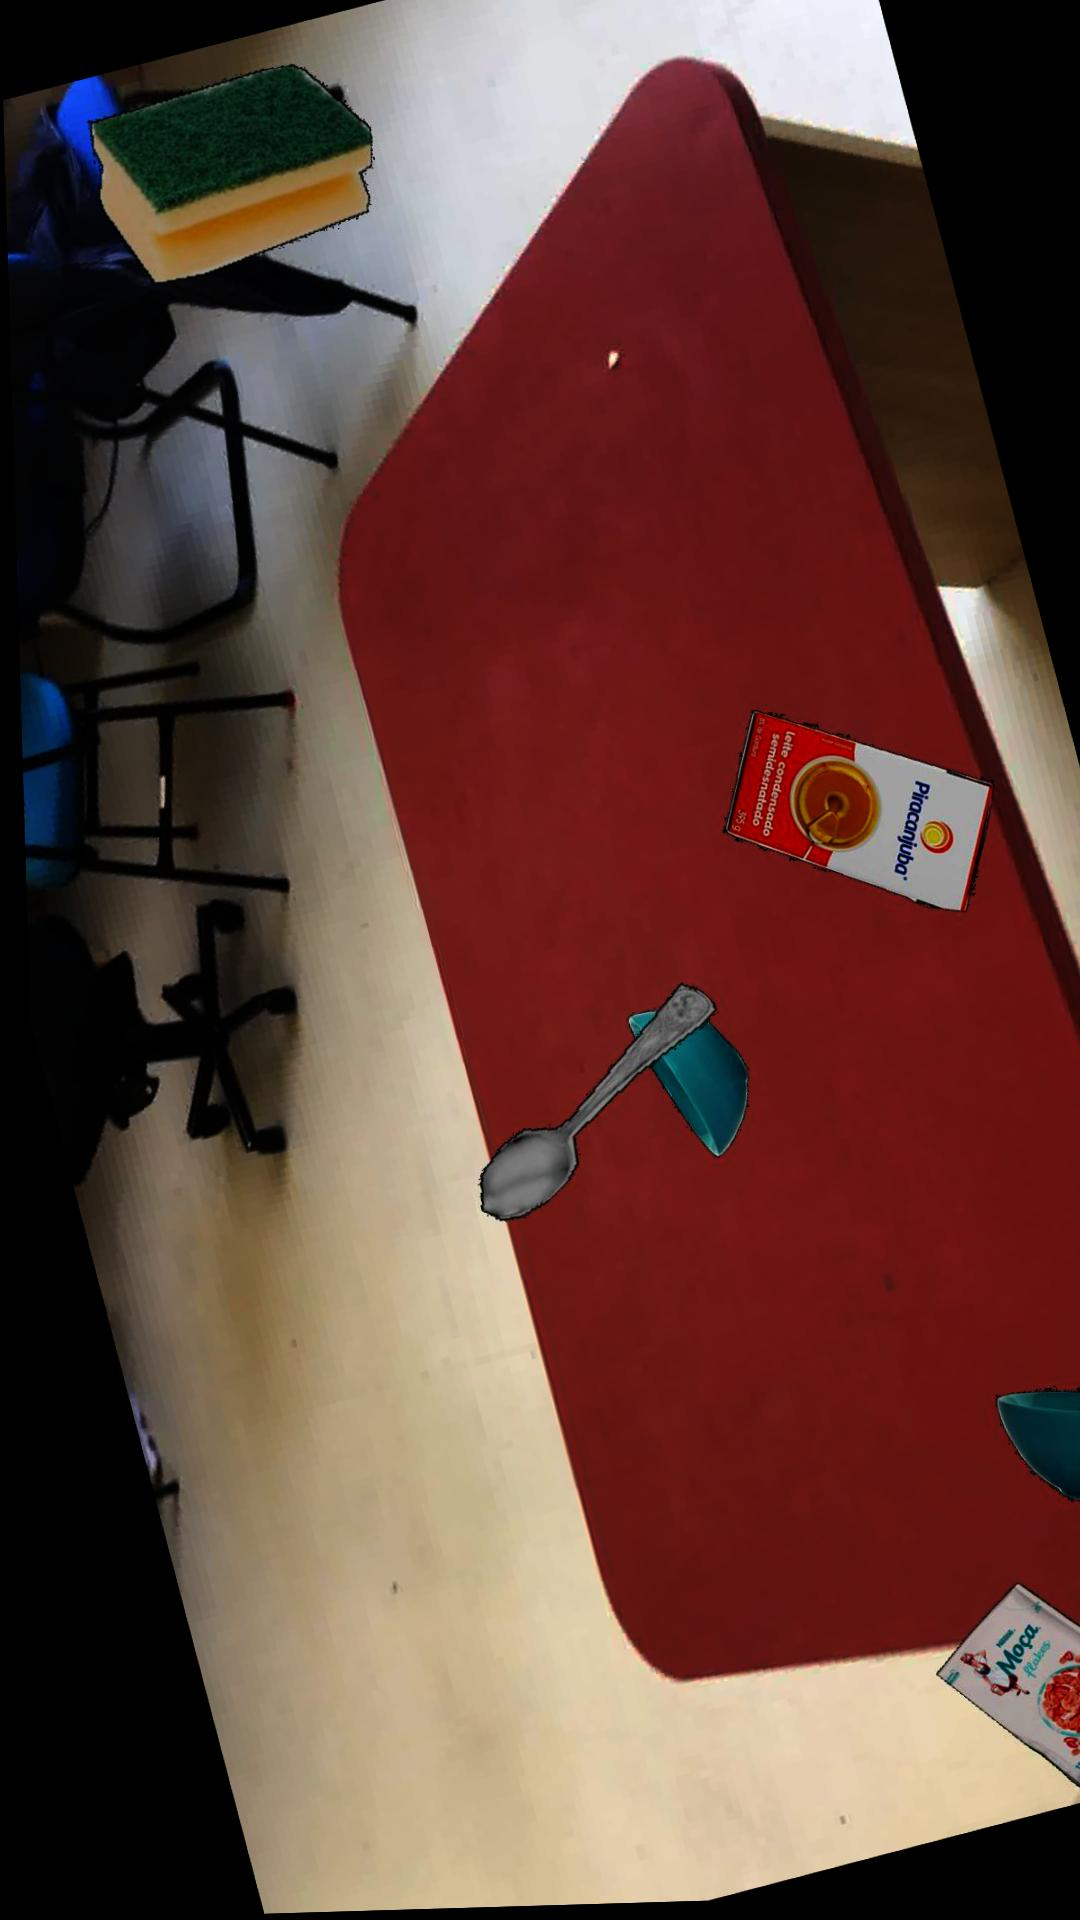bowl: (622, 1014, 744, 1162), (989, 1394, 1080, 1510)
corn flakes: (928, 1590, 1080, 1793)
sponge: (91, 67, 373, 285)
spoon: (475, 988, 712, 1224)
